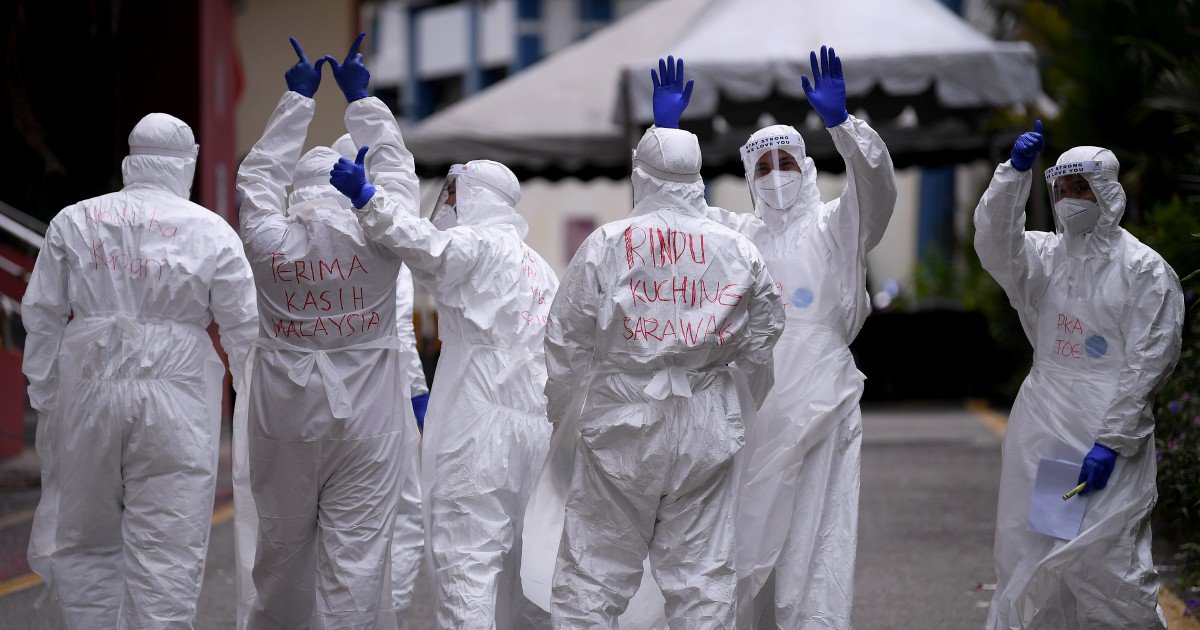Coverall: (28, 104, 245, 630), (547, 124, 761, 630), (974, 155, 1183, 630), (706, 125, 890, 630), (242, 94, 410, 630), (375, 157, 562, 630)
Gloves: (797, 39, 861, 127), (323, 29, 384, 106), (646, 49, 700, 127), (1073, 443, 1122, 504), (330, 145, 379, 205), (282, 31, 323, 102), (1006, 117, 1051, 175)
with_mask: (1054, 180, 1101, 242), (753, 162, 802, 214)
